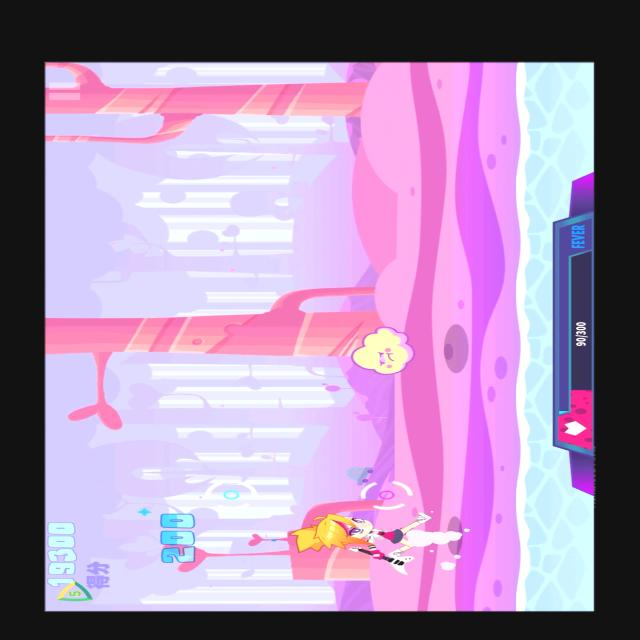Ground Monster - yellow Cloud: (349, 322, 420, 378)
